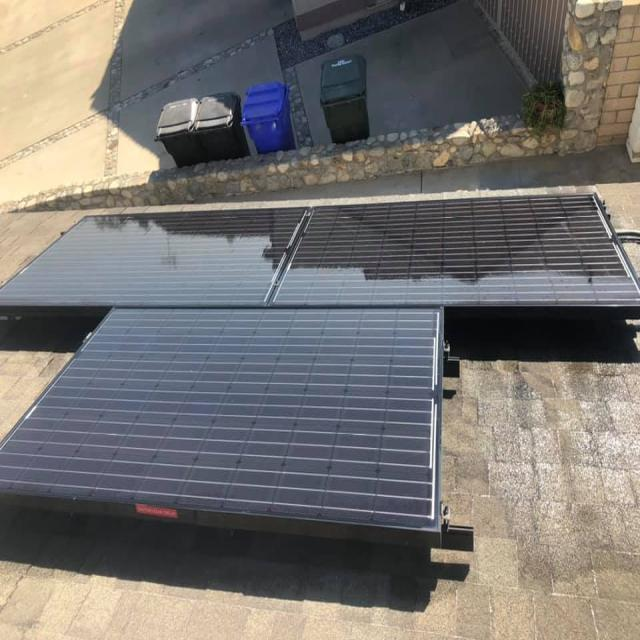clean-solar-panel: (2, 195, 640, 547)
